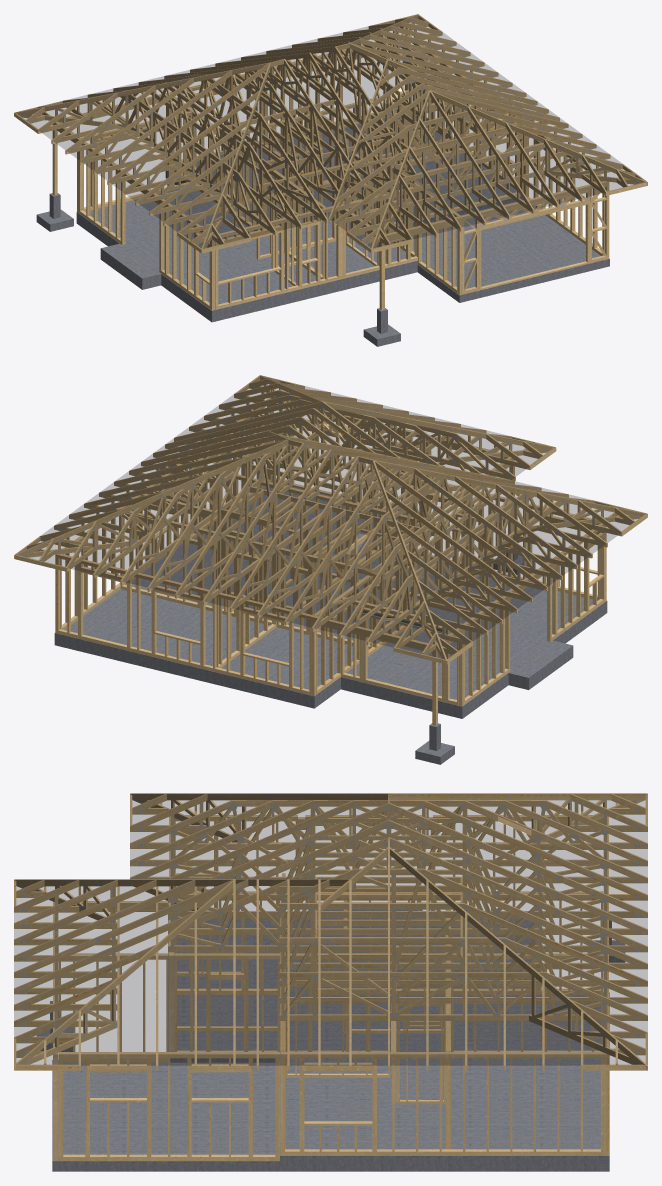
The model's file is wooden_frame.glb.
3 renders of one model, top to bottom at view 1: azimuth 30°, elevation 25°; view 2: azimuth 150°, elevation 25°; view 3: azimuth 270°, elevation 25°, orthographic. The views are drawn at different scales.
Visible parts, largest first — view 1: skfb_offset; view 2: skfb_offset; view 3: skfb_offset.
Boxes of the visible parts, bbox=[...] form: skfb_offset: bbox=[14, 14, 647, 346]; skfb_offset: bbox=[14, 375, 647, 764]; skfb_offset: bbox=[14, 793, 647, 1171].
Size of the model in its own units: 17100 by 7522 by 16830.
Materials: 5 (4 with a texture image).
